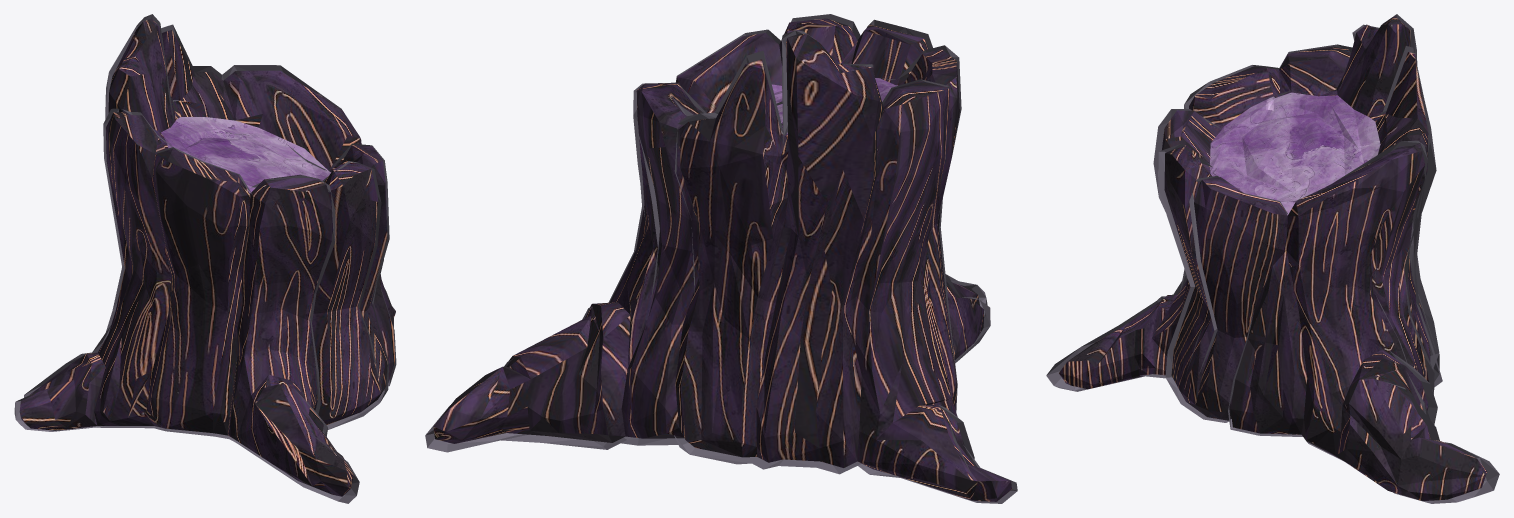
File: entity42908.gltf
3 renders of one model, left to right at view 1: azimuth 30°, elevation 25°; view 2: azimuth 150°, elevation 25°; view 3: azimuth 270°, elevation 25°, orthographic. The views are drawn at different scales.
Parts seen in each view (by area): view 1: node_mesh_trunk_01; view 2: node_mesh_trunk_01; view 3: node_mesh_trunk_01.
Part boxes in pixels (box(x1,y1,x2,y2)): node_mesh_trunk_01: box(14, 14, 396, 503); node_mesh_trunk_01: box(425, 14, 1017, 503); node_mesh_trunk_01: box(1046, 14, 1499, 503).
Size of the model in its own units: 151 by 132 by 146.
3 materials, 2 textured.
